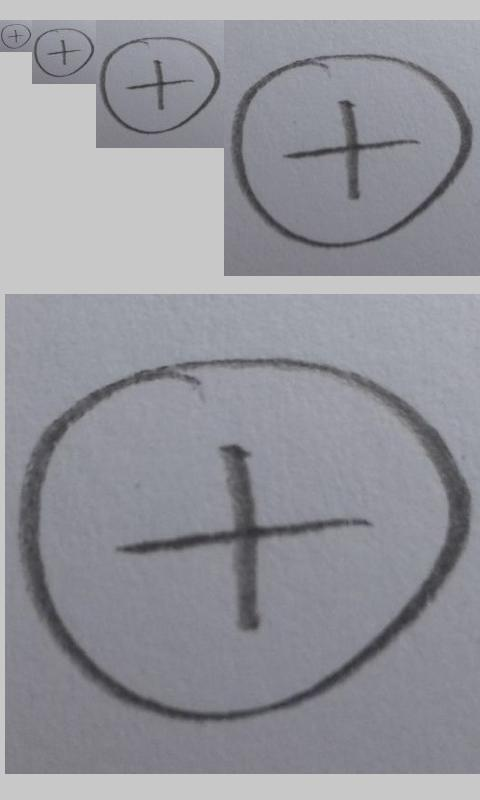button: (20, 355, 468, 723), (232, 53, 473, 248), (100, 36, 221, 134), (34, 28, 94, 78), (1, 23, 31, 49)
